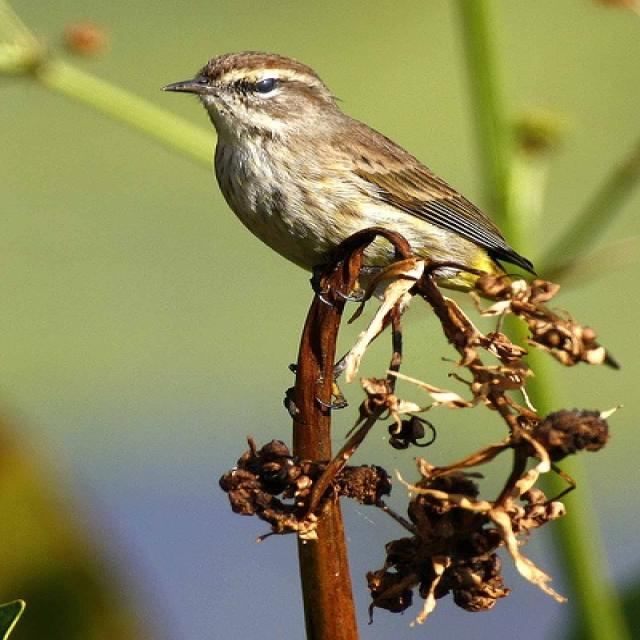bird: (160, 48, 544, 416)
